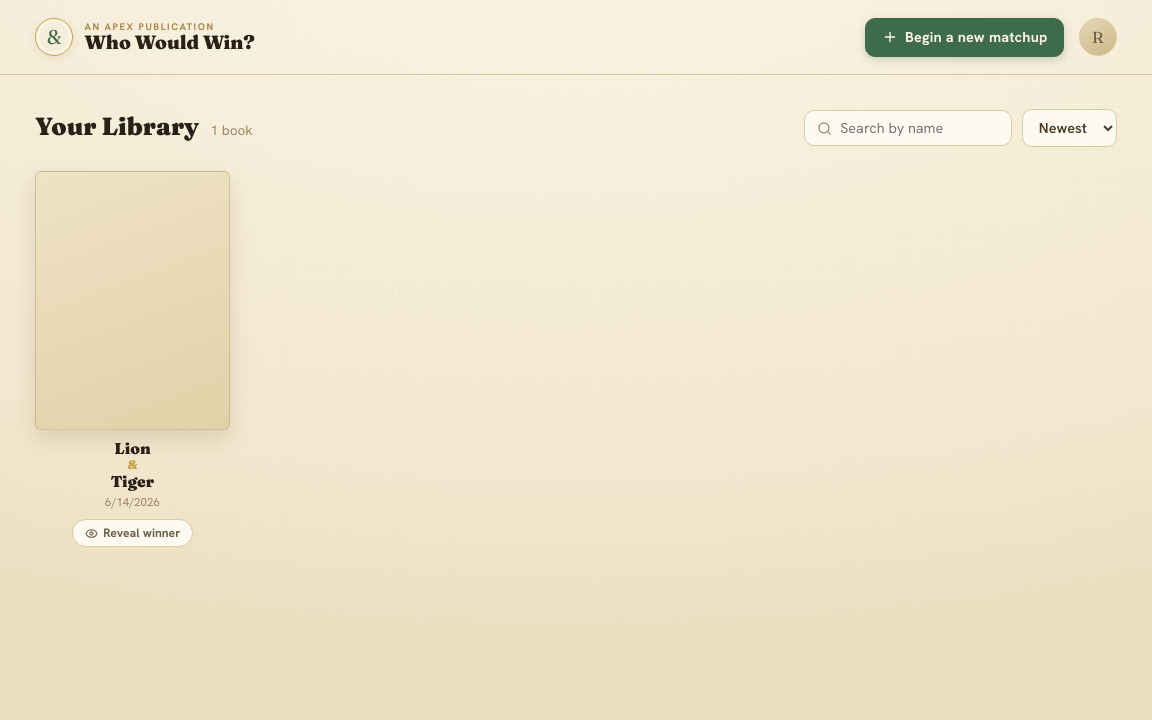
Dashboard › compose › opens the composer overlay from the masthead stamp when a library exists
Click the button "Begin a new matchup" at point(965, 37), box [865,18,1064,57]
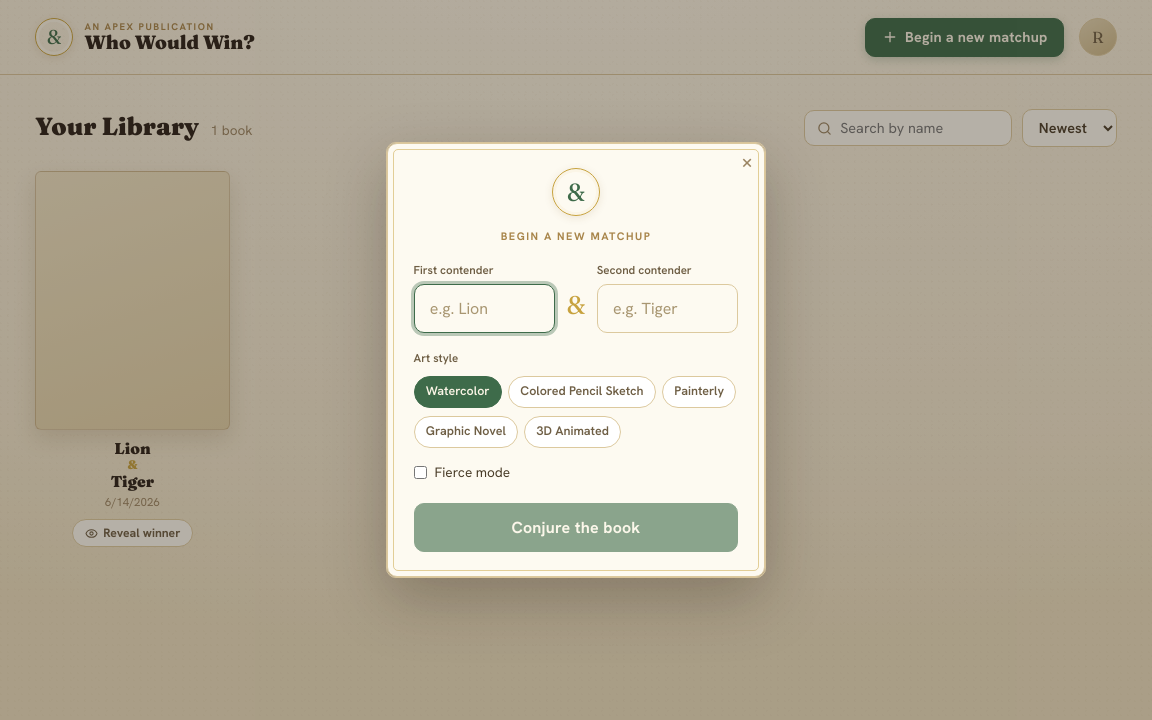
Result: the dialog "Begin a New Matchup" is shown at [386,142,766,578]
Press Escape
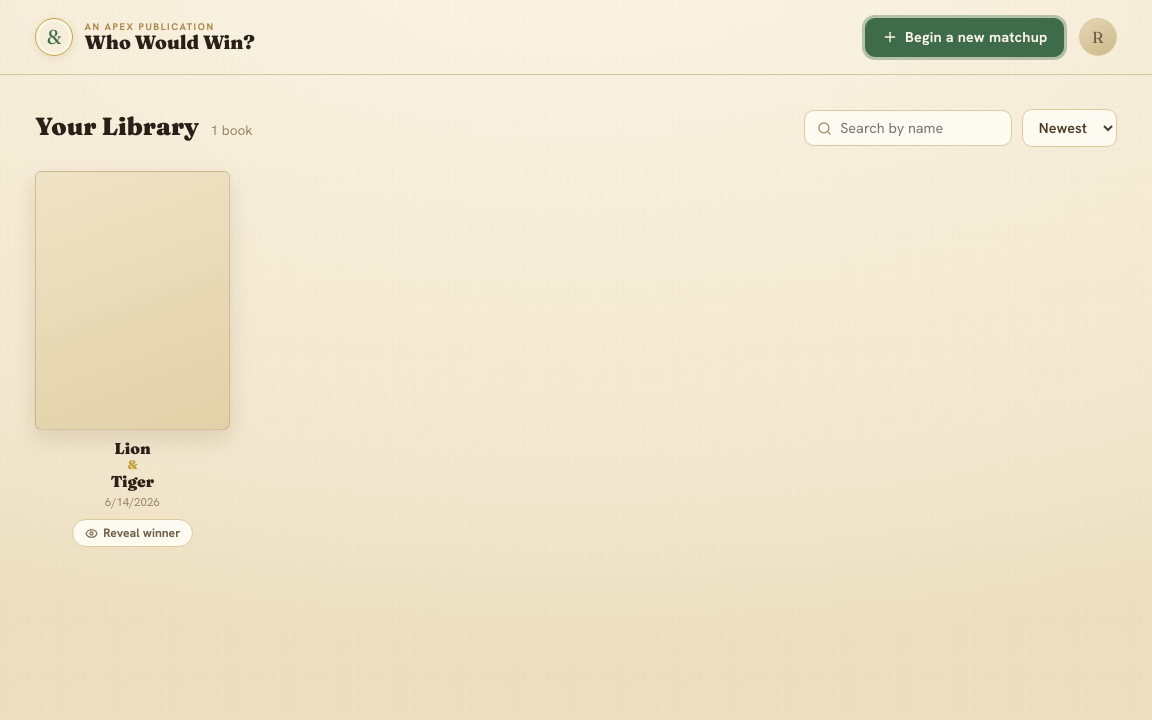
Result: the dialog is gone
